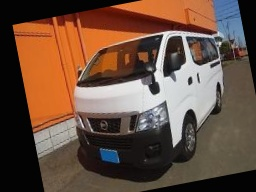van: (60, 21, 240, 187)
